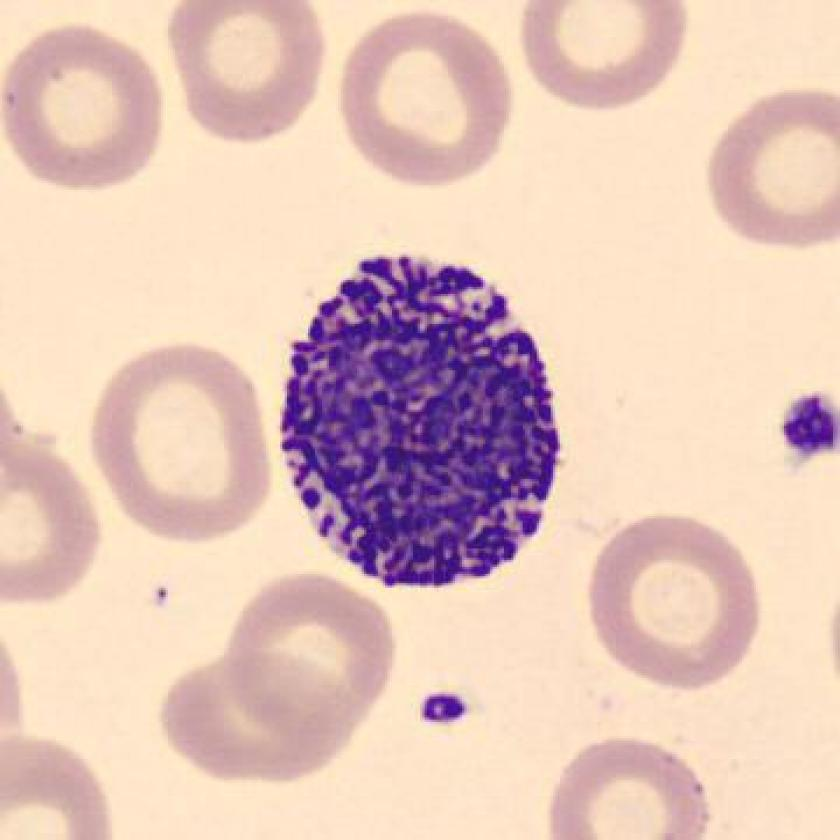basophil: (276, 239, 573, 598)
